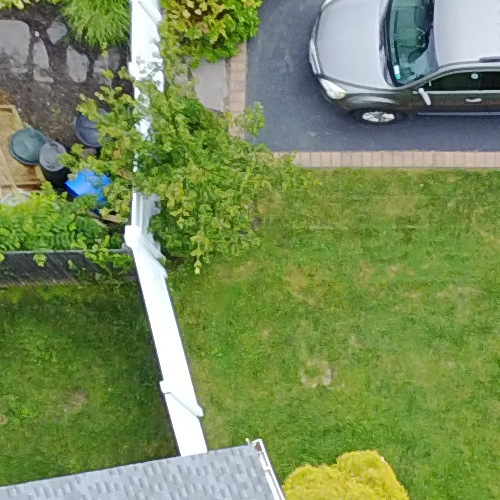trash bin: (75, 94, 126, 155), (34, 137, 70, 180)
